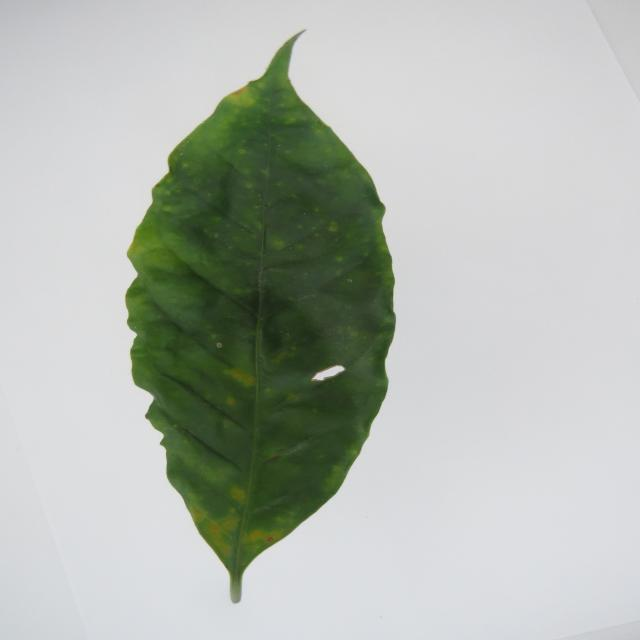DeficienciaNutricional-Calcio: (127, 35, 395, 601)
